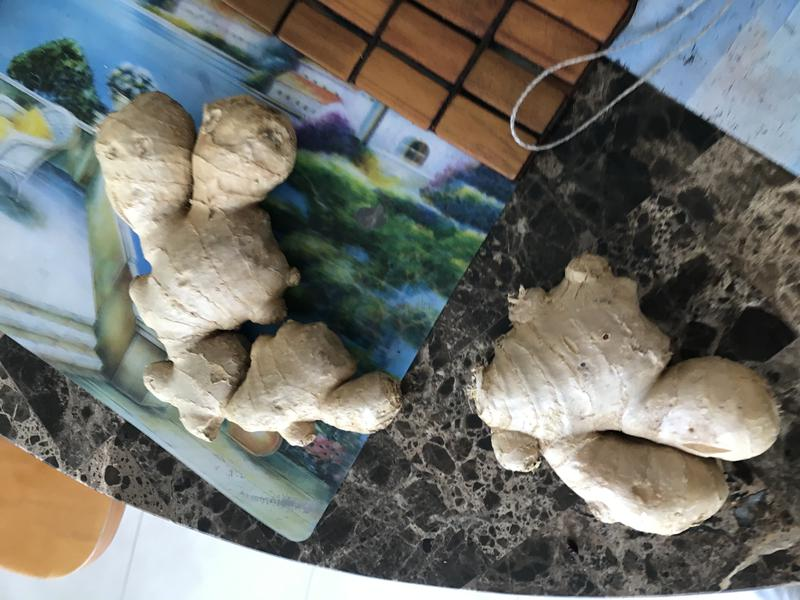ginger: (87, 85, 410, 463), (463, 249, 788, 541)
